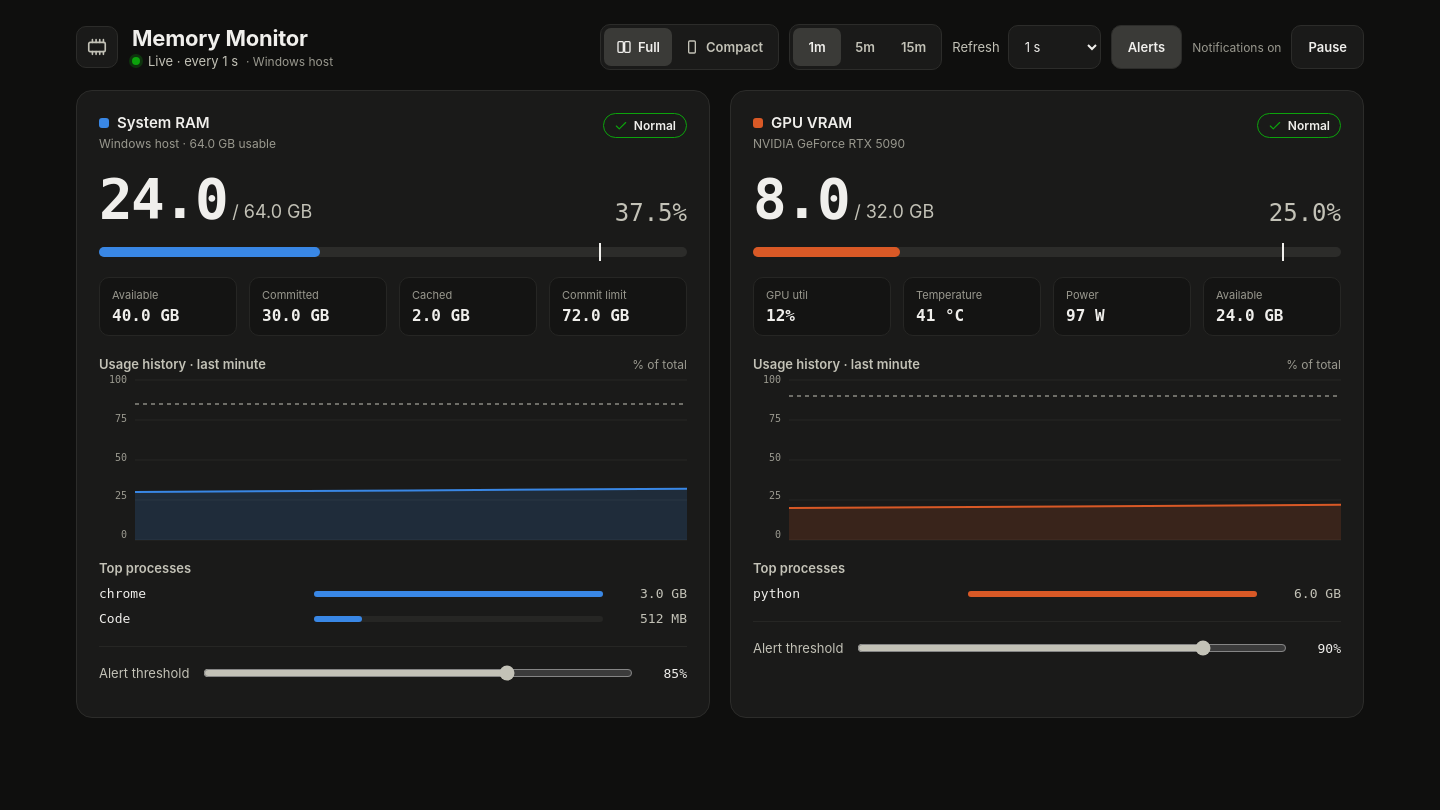
Test case: App › freezes the display while paused
Step 1. Click the button "Pause" → (1328, 47), box [1292,25,1364,69]
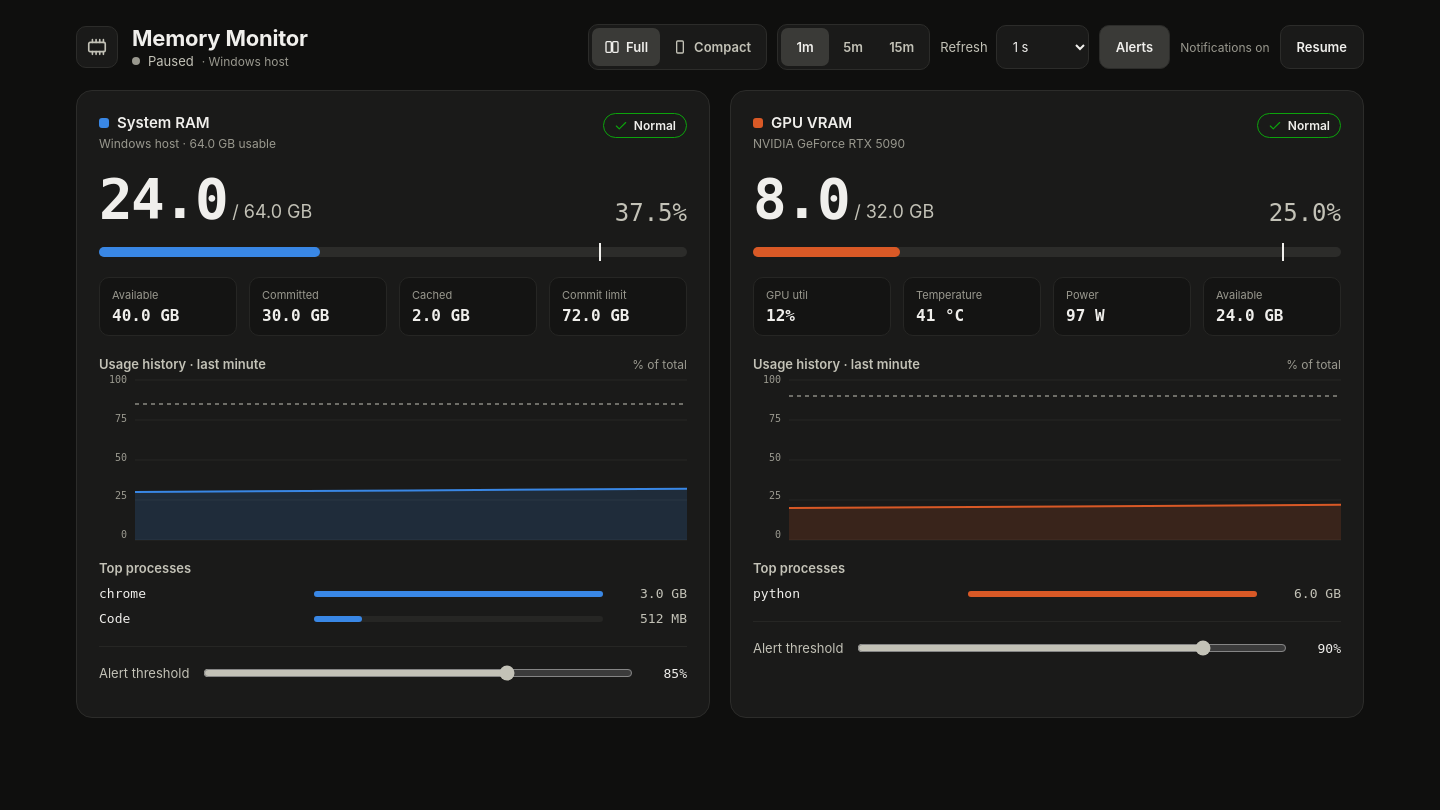
Expected: the element "System RAM" shows "37.5%", [76,90,710,718]
Step 2. Click the button "Resume" → (1322, 47), box [1280,25,1364,69]
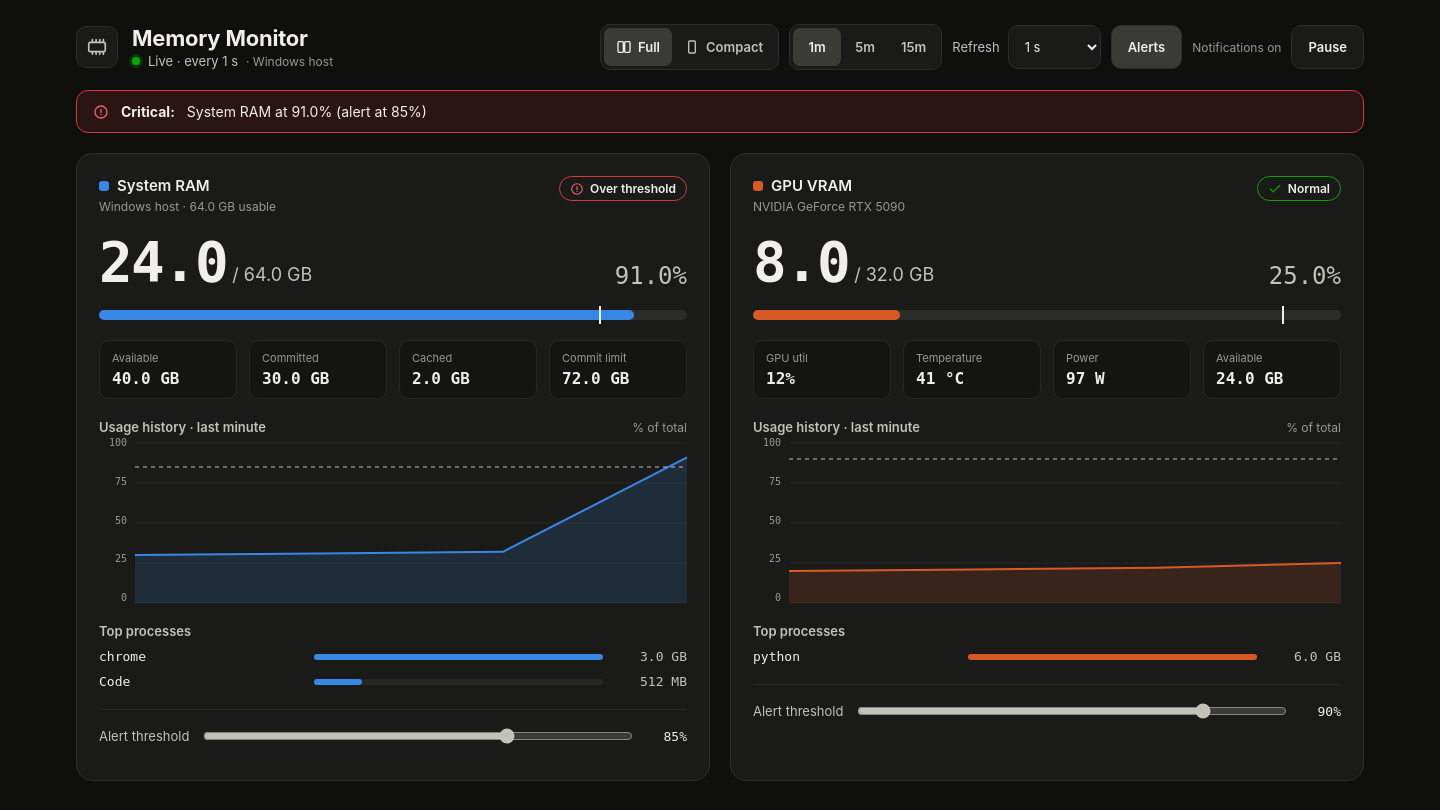
Now the element "System RAM" shows "91.0%", box [76,153,710,781]
